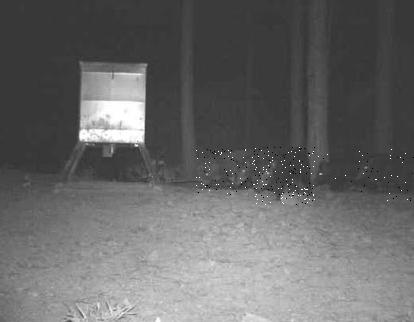Hog: (252, 147, 315, 205), (357, 148, 414, 202), (196, 149, 258, 195), (317, 148, 358, 195), (234, 153, 258, 188)
